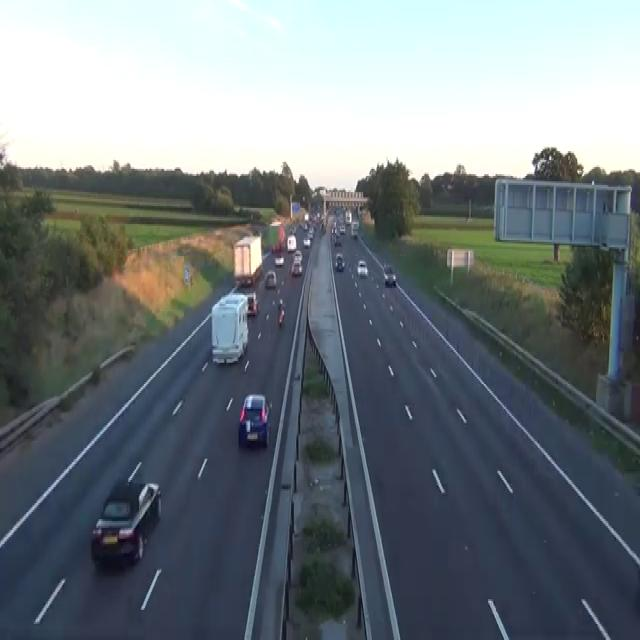Car: (90, 478, 161, 566), (238, 393, 270, 448), (383, 263, 396, 286), (246, 292, 259, 314), (264, 268, 276, 288), (356, 260, 368, 278), (278, 299, 285, 327), (290, 260, 302, 276), (335, 252, 344, 270), (240, 274, 252, 286), (274, 254, 284, 267), (293, 249, 302, 263), (271, 242, 281, 252), (287, 226, 296, 234), (303, 237, 310, 247), (334, 235, 341, 245), (278, 297, 285, 307), (301, 220, 308, 230), (352, 220, 359, 230), (339, 222, 345, 233), (308, 228, 314, 238), (320, 221, 325, 231), (304, 212, 308, 220), (331, 226, 335, 234)
Truck: (210, 292, 248, 364), (232, 233, 262, 286), (269, 220, 285, 252), (286, 233, 296, 252)
